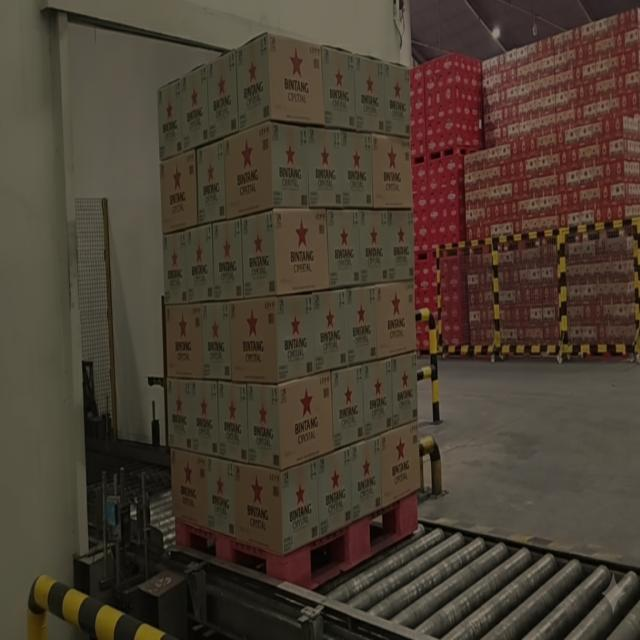pallet: (150, 20, 428, 608)
